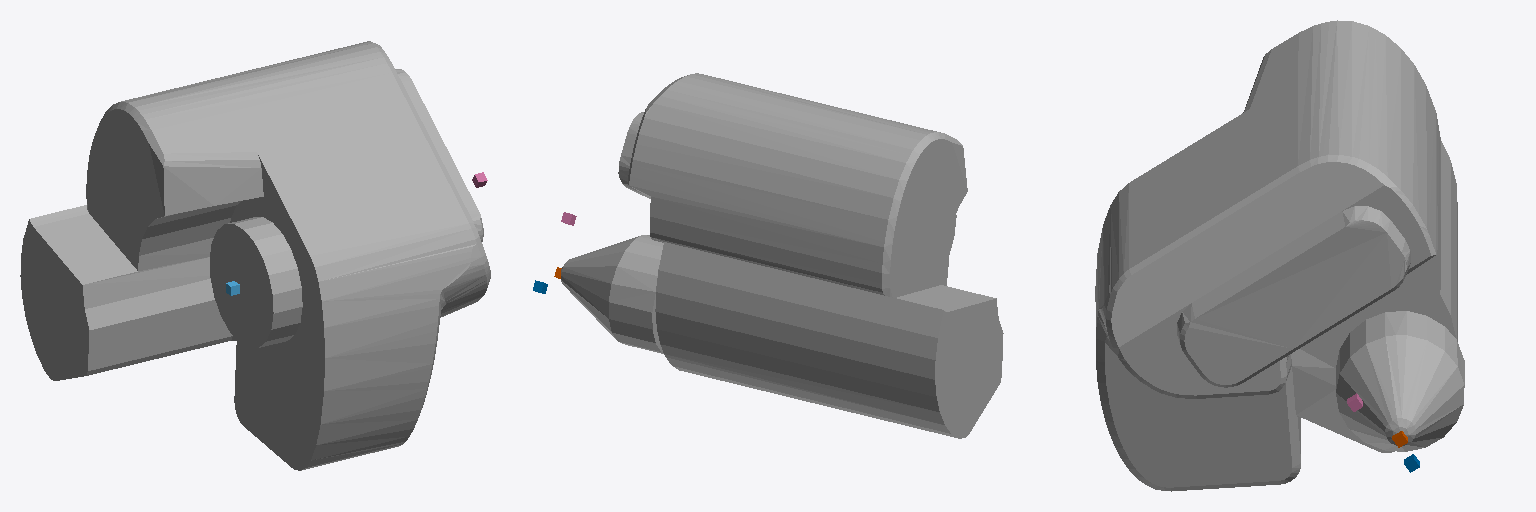
robot.urdf — aubo_i3:
<?xml version="1.0"?>
<robot name="aubo_i3">

  <link name="world" />
  <joint name="world_joint" type="fixed">
    <parent link="world" />
    <child link ="mounter" />
    <origin xyz="0.0 -0.658 0.0" rpy="0 0 0" />
  </joint>

  <link name="mounter">
    <visual>
      <geometry>
        <mesh filename="package://aubo_description/meshes/aubo_i3/collision/mounter_front_new.stl"/>
      </geometry>
      <material name="LightGrey">
        <color rgba="0.7 0.7 0.7 1.0"/>
      </material>
    </visual>
    <collision>
      <geometry>
        <mesh filename="package://aubo_description/meshes/aubo_i3/collision/mounter_front_new.stl"/>
      </geometry>
    </collision>
    <!-- <inertial>
      <mass value="0.1" />
      <inertia ixx="0.00003" iyy="0.00003" izz="0.00003" ixy="0.0" ixz="0.0" iyz="0.0" />
    </inertial> -->
  </link>
  <joint name="mounter_joint" type="fixed">
    <parent link="mounter" />
    <child link = "base_link" />
    <origin xyz="0.0 0 0.0" rpy="3.14159 0.0 4.712389"/>
  </joint>

  <link name="base_link">
    <inertial>
      <origin xyz="2.1698E-06 0.00017917 0.036984" rpy="0 1.5708 0" />
      <mass value="0.97332" />
      <inertia ixx="0.0015063" ixy="0" ixz="0" iyy="0.0014907" iyz="0" izz="0.0019063" />
    </inertial>
    <visual>
      <origin xyz="0 0 0" rpy="0 0 0" />
      <geometry>
        <mesh filename="package://aubo_description/meshes/aubo_i3/visual/base_link.DAE" />
      </geometry>
      <material name="">
        <color rgba="0.29804 0.29804 0.29804 1" />
      </material>
    </visual>
    <collision>
      <origin  xyz="0 0 0"  rpy="0 0 0" />
      <geometry>
        <mesh filename="package://aubo_description/meshes/aubo_i3/collision/base_link.STL" />
      </geometry>
    </collision>
  </link>

  <link name="shoulder_Link">
    <inertial>
      <origin xyz="-2.9523E-07 0.0037104 -0.0023315" rpy="0 0 0" />
      <mass value="1.173" />
      <inertia ixx="0.0026259" ixy="0" ixz="0" iyy="0.0025333" iyz="0" izz="0.0016014" />
    </inertial>
    <visual>
      <origin xyz="0 0 0" rpy="0 0 0" />
      <geometry>
        <mesh filename="package://aubo_description/meshes/aubo_i3/visual/shoulder_Link.DAE" />
      </geometry>
      <material name="">
        <color rgba="0.29804 0.29804 0.29804 1" />
      </material>
    </visual>
    <collision>
      <origin xyz="0 0 0" rpy="0 0 0" />
      <geometry>
        <mesh filename="package://aubo_description/meshes/aubo_i3/collision/shoulder_Link.STL" />
      </geometry>
    </collision>
  </link>

  <joint name="shoulder_joint" type="revolute">
    <origin xyz="0 0 0.157" rpy="0 0 3.1416" />
    <parent link="base_link" />
    <child link="shoulder_Link" />
    <axis xyz="0 0 1" />
    <limit lower="-3.036873" upper="3.036873" effort="0" velocity="0" />
  </joint>

  <link name="upperArm_Link">
    <inertial>
      <origin xyz="0.1186 1.7713E-06 0.0063972" rpy="0 0 0" />
      <mass value="2.7791" />
      <inertia ixx="0.0046752" ixy="0" ixz="0.00015757" iyy="0.040156" iyz="0" izz="0.038401" />
    </inertial>
    <visual>
      <origin  xyz="0 0 0" rpy="0 0 0" />
      <geometry>
        <mesh filename="package://aubo_description/meshes/aubo_i3/visual/upperArm_Link.DAE" />
      </geometry>
      <material name="">
        <color rgba="0.29804 0.29804 0.29804 1" />
      </material>
    </visual>
    <collision>
      <origin xyz="0 0 0" rpy="0 0 0" />
      <geometry>
        <mesh filename="package://aubo_description/meshes/aubo_i3/collision/upperArm_Link.STL" />
      </geometry>
    </collision>
  </link>

  <joint name="upperArm_joint" type="revolute">
    <origin xyz="0 0.119 0" rpy="-1.5708 -1.5708 0" />
    <parent link="shoulder_Link" />
    <child link="upperArm_Link" />
    <axis xyz="0 0 1" />
    <limit lower="-2.0944" upper="2.0944" effort="0" velocity="0" />
  </joint>

  <link name="foreArm_Link">
    <inertial>
      <origin xyz="0.15095 3.6355E-05 0.1001" rpy="0 0 0" />
      <mass value="1.5214" />
      <inertia ixx="0.0014873" ixy="0" ixz="-0.00055006" iyy="0.016144" iyz="0" izz="0.015711" />
    </inertial>
    <visual>
      <origin xyz="0 0 0" rpy="0 0 0" />
      <geometry>
        <mesh filename="package://aubo_description/meshes/aubo_i3/visual/foreArm_Link.DAE" />
      </geometry>
      <material name="">
        <color rgba="0.77647 0.75686 0.73725 1" />
      </material>
    </visual>
    <collision>
      <origin xyz="0 0 0" rpy="0 0 0" />
      <geometry>
        <mesh filename="package://aubo_description/meshes/aubo_i3/collision/foreArm_Link.STL" />
      </geometry>
    </collision>
  </link>

  <joint name="foreArm_joint" type="revolute">
    <origin xyz="0.266 0 0" rpy="3.1416 0 0" />
    <parent link="upperArm_Link" />
    <child link="foreArm_Link" />
    <axis xyz="0 0 1" />
    <limit lower="-0.035" upper="3.036873" effort="0" velocity="0" />
  </joint>

  <link name="wrist1_Link">
    <inertial>
      <origin xyz="-7.0582E-05 -0.0015345 -0.0029597" rpy="0 0 0" />
      <mass value="0.63348" />
      <inertia ixx="0.0009362" ixy="0" ixz="0" iyy="0.00051333" iyz="0" izz="0.00090515" />
    </inertial>
    <visual>
      <origin xyz="0 0 0" rpy="0 0 0" />
      <geometry>
        <mesh filename="package://aubo_description/meshes/aubo_i3/visual/wrist1_Link.DAE" />
      </geometry>
      <material name="">
        <color rgba="0.79216 0.81961 0.93333 1" />
      </material>
    </visual>
    <collision>
      <origin xyz="0 0 0" rpy="0 0 0" />
      <geometry>
        <mesh filename="package://aubo_description/meshes/aubo_i3/collision/wrist1_Link.STL" />
      </geometry>
    </collision>
  </link>

  <joint name="wrist1_joint" type="revolute">
    <origin xyz="0.2565 0 0" rpy="3.1416 0 1.5708" />
    <parent link="foreArm_Link" />
    <child link="wrist1_Link" />
    <axis xyz="0 0 1" />
    <limit lower="-1.3963" upper="1.3963" effort="0" velocity="0" />
  </joint>

  <link name="wrist2_Link">
    <inertial>
      <origin xyz="7.0582E-05 0.0015345 -0.0029597" rpy="0 0 0" />
      <mass value="0.63348" />
      <inertia ixx="0.0009362" ixy="0" ixz="0" iyy="0.00051333" iyz="7.4602E-06" izz="0.00090515" />
    </inertial>
    <visual>
      <origin xyz="0 0 0" rpy="0 0 0" />
      <geometry>
        <mesh filename="package://aubo_description/meshes/aubo_i3/visual/wrist2_Link.DAE" />
      </geometry>
      <material name="">
        <color rgba="0.79216 0.81961 0.93333 1" />
      </material>
    </visual>
    <collision>
      <origin xyz="0 0 0" rpy="0 0 0" />
      <geometry>
        <mesh filename="package://aubo_description/meshes/aubo_i3/collision/wrist2_Link.STL" />
      </geometry>
    </collision>
  </link>

  <joint name="wrist2_joint" type="revolute">
    <origin xyz="0 0.1025 0" rpy="-1.5708 0 0" />
    <parent link="wrist1_Link" />
    <child  link="wrist2_Link" />
    <axis xyz="0 0 1" />
    <limit lower="-3.036873" upper="0.035" effort="0" velocity="0" />
  </joint>

  <link name="wrist3_Link">
    <inertial>
      <origin xyz="8.8789E-10 0.00040506 -0.01865" rpy="0 0 0" />
      <mass value="0.13713" />
      <inertia ixx="6.1911E-05" ixy="0"  ixz="0" iyy="5.9471E-05" iyz="2.8126E-07" izz="9.7957E-05" />
    </inertial>
    <visual>
      <origin xyz="0 0 0" rpy="0 0 0" />
      <geometry>
        <mesh filename="package://aubo_description/meshes/aubo_i3/visual/wrist3_Link.DAE" />
      </geometry>
      <material name="">
        <color rgba="0.25098 0.25098 0.25098 1" />
      </material>
    </visual>
    <collision>
      <origin  xyz="0 0 0" rpy="0 0 0" />
      <geometry>
        <mesh filename="package://aubo_description/meshes/aubo_i3/collision/wrist3_Link.STL" />
      </geometry>
    </collision>
  </link>

  <joint name="wrist3_joint" type="revolute">
    <origin xyz="0 -0.094 0" rpy="1.5708 0 0" />
    <parent link="wrist2_Link" />
    <child link="wrist3_Link" />
    <axis xyz="0 0 1" />
<!--    <limit lower="-1.570796327" upper="3.1415926" effort="0" velocity="0" />-->
    <limit lower="-2.0472" upper="2.618" effort="0" velocity="0" />
  </joint>

  <!-- modified line here -->
  <link name="ee_link">
      <visual>
        <geometry>
          <box size="0.005 0.005 0.005"/>
        </geometry>
        <origin rpy="0 0 0" xyz="0 0 0"/>
      </visual>
  </link>
  <joint name="ee_fixed_joint" type="fixed">
    <parent link="wrist3_Link" />
    <child link = "ee_link" />
    <origin xyz="0.0 0.0 0.0" rpy="0.0 -1.57079 0" />
  </joint>

  <link name="tool0"/>
  <joint name="wrist3_Link-tool0_fixed_joint" type="fixed">
    <origin xyz="0 0 0" rpy="-1.57079 0 0"/>
    <parent link="wrist3_Link"/>
    <child link="tool0"/>
  </joint>
  <link name="camera_link">
    <visual>
      <geometry>
        <box size="0.005 0.005 0.005"/>
      </geometry>
      <origin rpy="0 0 0" xyz="0 0 0"/>
    </visual>
  </link>
  <joint name="vision_joint" type="fixed">
      <origin xyz="0.107466 -0.031883 0.005886" rpy="-1.121578 0.168985 -0.313050"/>
    <parent link="ee_link"/>
    <child link="camera_link"/>
  </joint>

  <link name="finger">
    <visual>
      <geometry>
        <box size="0.005 0.005 0.005"/>
      </geometry>
      <origin rpy="0 0 0" xyz="0 0 0"/>
    </visual>
  </link>
  <joint name="eelink_finger_joint" type="fixed">
      <origin xyz="0.17600 0.033720 0.083580" rpy="-0.977384364 0 0"/>
    <parent link="ee_link"/>
    <child link="finger"/>
  </joint>

  <link name="finger_rub">
    <visual>
      <geometry>
        <box size="0.005 0.005 0.005"/>
      </geometry>
      <origin rpy="0 0 0" xyz="0 0 0"/>
    </visual>
  </link>
  <joint name="eelink_finger_rub_joint" type="fixed">
      <origin xyz="0.166500 0.02626 0.07855" rpy="-0.977384364 0 0"/>
    <parent link="ee_link"/>
    <child link="finger_rub"/>
  </joint>

  <link name="palm">
    <visual>
      <geometry>
        <box size="0.005 0.005 0.005"/>
      </geometry>
      <origin rpy="0 0 0" xyz="0 0 0"/>
    </visual>
  </link>
  <joint name="eelink_palm_joint" type="fixed">
      <origin xyz="0.173930 0.005870 0.059050" rpy="-0.977384364 0 0"/>
    <parent link="ee_link"/>
    <child link="palm"/>
  </joint>

  <link name="eef_link">
    <visual>
      <geometry>
        <mesh filename="package://aubo_description/meshes/aubo_i3/collision/eef_single.STL"/>
      </geometry>
      <material name="LightGrey">
        <color rgba="0.7 0.7 0.7 1.0"/>
      </material>
    </visual>
    <collision>
      <geometry>
        <mesh filename="package://aubo_description/meshes/aubo_i3/collision/eef_single.STL"/>
      </geometry>
    </collision>
    <!-- <inertial>
      <mass value="0.1" />
      <inertia ixx="0.00003" iyy="0.00003" izz="0.00003" ixy="0.0" ixz="0.0" iyz="0.0" />
    </inertial> -->
  </link>
  <joint name="eef_joint" type="fixed">
    <parent link="ee_link" />
    <child link = "eef_link" />
    <!-- <origin xyz="0.0 0.0 0.0" rpy="-0.610865 0 0.0" /> -->
    <origin xyz="0.0 0.0 0.0" rpy="0 0 0.0" />
  </joint>

</robot>

--- Render facts (derived) ---
Views: 3 orthographic renders of the robot side by side, from view 1: azimuth 30°, elevation 25°; view 2: azimuth 150°, elevation 25°; view 3: azimuth 270°, elevation 25°.
Robot: aubo_i3 — 16 links, 15 joints (6 revolute, 9 fixed); root link world; default pose: every joint at zero.
Links seen in each view (by area): view 1: eef_link; view 2: eef_link; view 3: eef_link.
Boxes of the visible links, left/top/right/bottom form: eef_link: left=20, top=41, right=490, bottom=470; eef_link: left=561, top=73, right=1003, bottom=438; eef_link: left=1095, top=20, right=1464, bottom=491.
Size in the robot's own frame: 0.239 by 0.1596 by 0.1772 metres.
Meshes: 9 distinct files referenced, 1 mesh visuals loaded (1 binary STL); not drawn: 8 (reference not matched to a file when rendering).